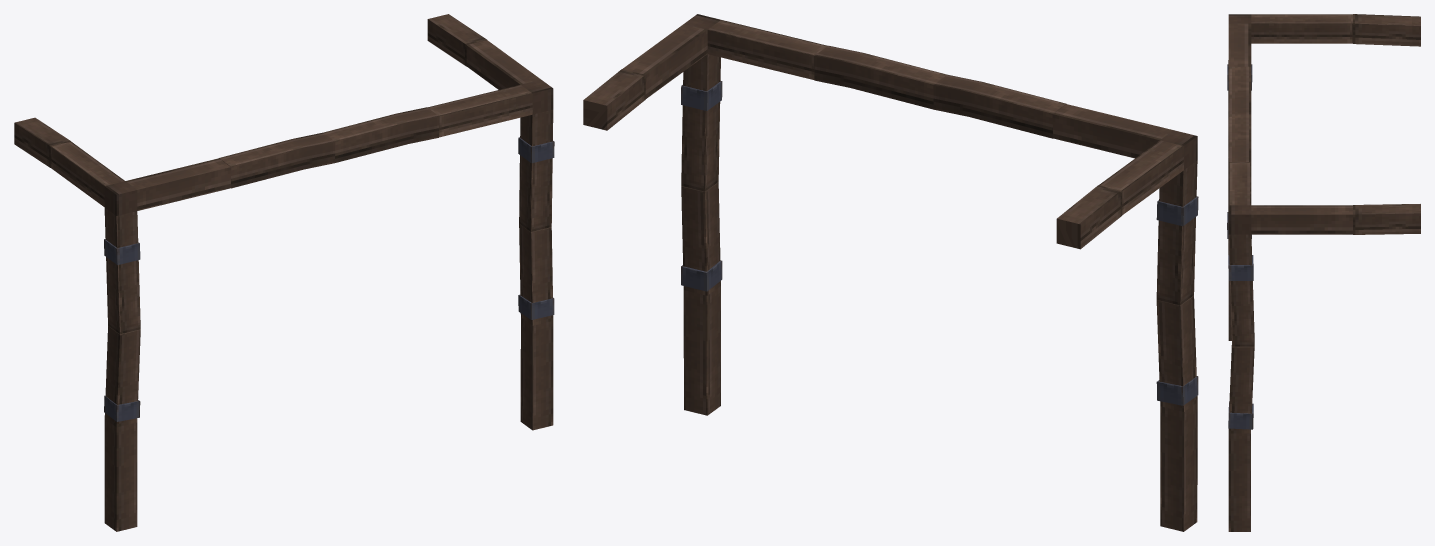
Rendered from wood_support_half.glb.
The picture shows the model from 3 angles, left to right: view 1: azimuth 30°, elevation 25°; view 2: azimuth 150°, elevation 25°; view 3: azimuth 270°, elevation 25°; orthographic projection. The views are drawn at different scales.
Visible parts, largest first — view 1: wood_support_half; view 2: wood_support_half; view 3: wood_support_half.
Part boxes in pixels (<box>): wood_support_half: <box>14,14,554,531</box>; wood_support_half: <box>583,14,1198,531</box>; wood_support_half: <box>1227,14,1420,531</box>.
Size of the model in its own units: 4.21 by 3.11 by 1.71.
Materials: 1 (1 with a texture image).
